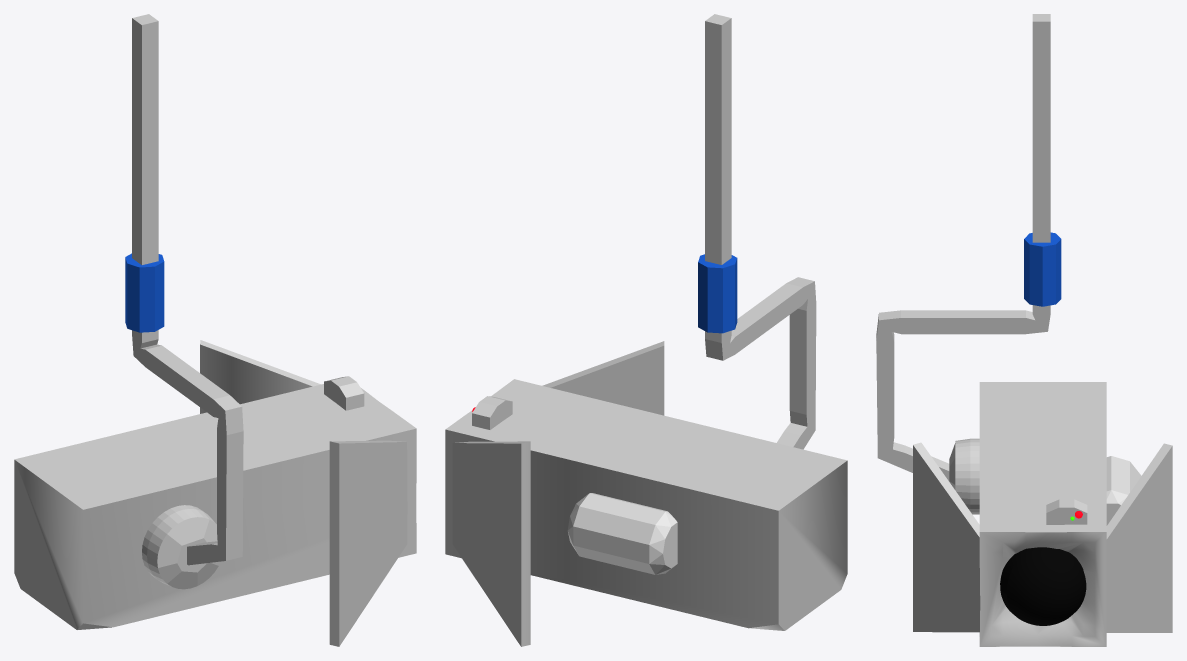
Rendered from camera.fbx.
The picture shows the model from 3 angles, left to right: view 1: azimuth 30°, elevation 25°; view 2: azimuth 150°, elevation 25°; view 3: azimuth 270°, elevation 25°; orthographic projection. The views are drawn at different scales.
Visible parts, largest first — view 1: Cube.003; view 2: Cube.003; view 3: Cube.003.
Boxes of the visible parts, box(x1,y1,x2,y2) form: Cube.003: box(14, 14, 416, 646); Cube.003: box(445, 14, 847, 646); Cube.003: box(876, 14, 1172, 646).
Size of the model in its own units: 1060 by 1721 by 827.
